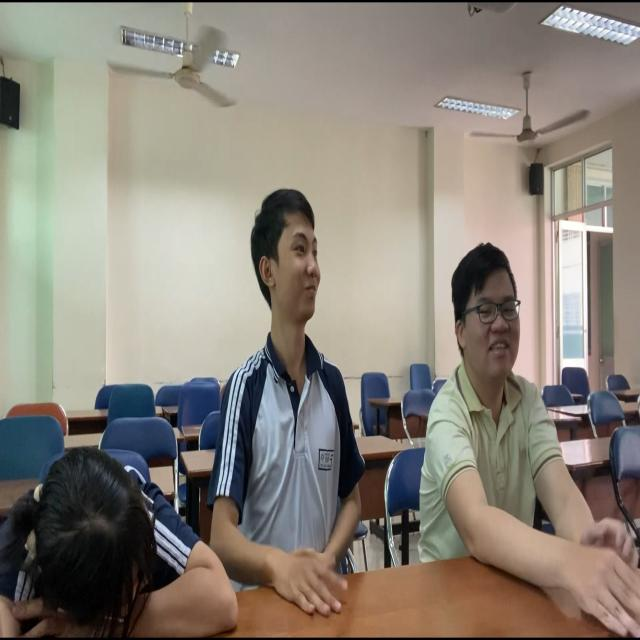sleep: (1, 437, 230, 640)
